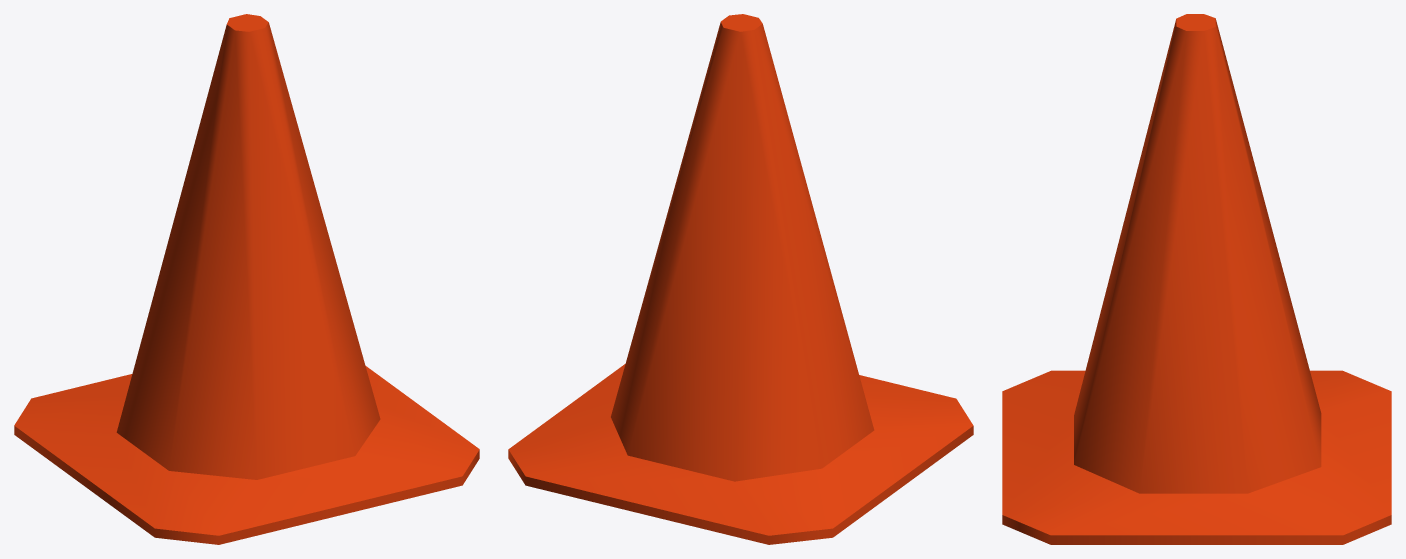
3 views of the same model, side by side, from view 1: azimuth 30°, elevation 25°; view 2: azimuth 150°, elevation 25°; view 3: azimuth 270°, elevation 25° (orthographic). The views are drawn at different scales.
Parts seen in each view (by area): view 1: cone; view 2: cone; view 3: cone.
Part boxes in pixels (x1=…): cone: x1=14, y1=14, x2=479, y2=544; cone: x1=508, y1=14, x2=973, y2=544; cone: x1=1002, y1=14, x2=1391, y2=544.
Size of the model in its own units: 17.74 by 22.11 by 17.74.
